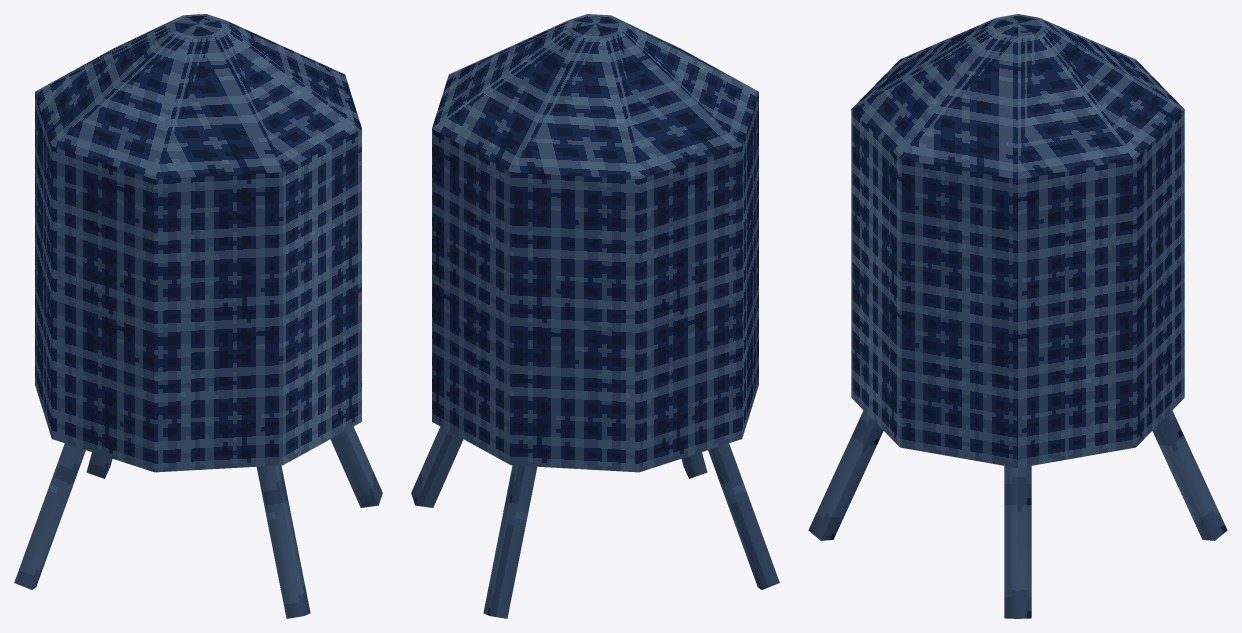
File: cydress.water_tank.glb
The picture shows the model from 3 angles, left to right: view 1: azimuth 30°, elevation 25°; view 2: azimuth 150°, elevation 25°; view 3: azimuth 270°, elevation 25°; orthographic projection.
Visible parts, largest first — view 1: kit_body; view 2: kit_body; view 3: kit_body.
Boxes of the visible parts, x1=… form: kit_body: x1=14, y1=14, x2=382, y2=618; kit_body: x1=411, y1=14, x2=779, y2=618; kit_body: x1=808, y1=14, x2=1227, y2=618.
Bounding box in the file's own units: 2.77 × 3.75 × 2.77.
Materials: 2 (2 with a texture image).
